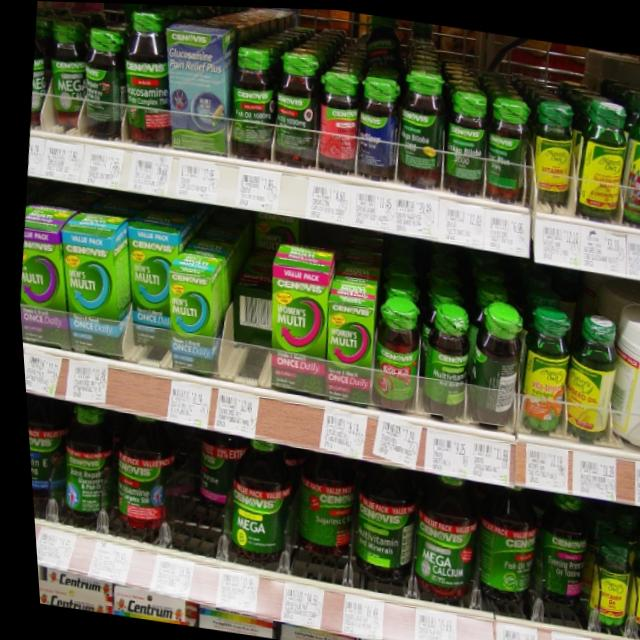q184: (251, 266, 329, 398), (312, 287, 374, 407)
